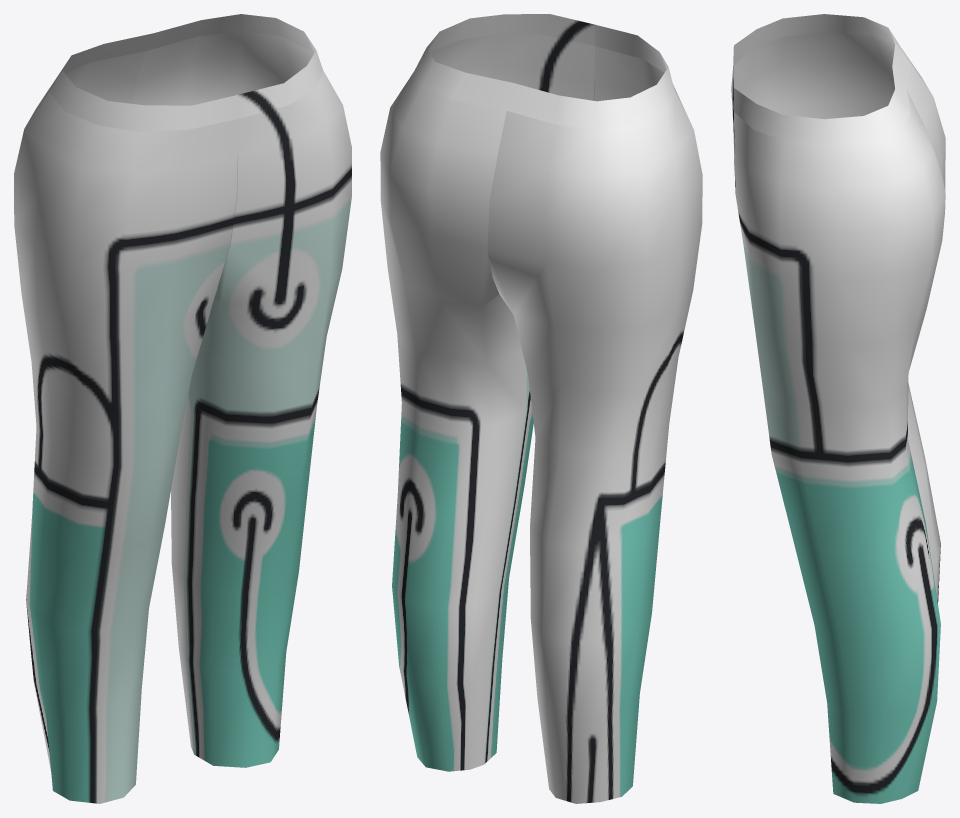
Rendered from pant_bmp.glb.
3 renders of one model, left to right at view 1: azimuth 30°, elevation 25°; view 2: azimuth 150°, elevation 25°; view 3: azimuth 270°, elevation 25°, orthographic. The views are drawn at different scales.
Visible parts, largest first — view 1: Basic_PANT; view 2: Basic_PANT; view 3: Basic_PANT.
Part boxes in pixels (x1=…): Basic_PANT: x1=14, y1=14, x2=351, y2=803; Basic_PANT: x1=380, y1=14, x2=702, y2=803; Basic_PANT: x1=731, y1=14, x2=945, y2=803.
Bounding box in the file's own units: 0.3244 × 0.7651 × 0.2161.
1 material, 1 textured.
